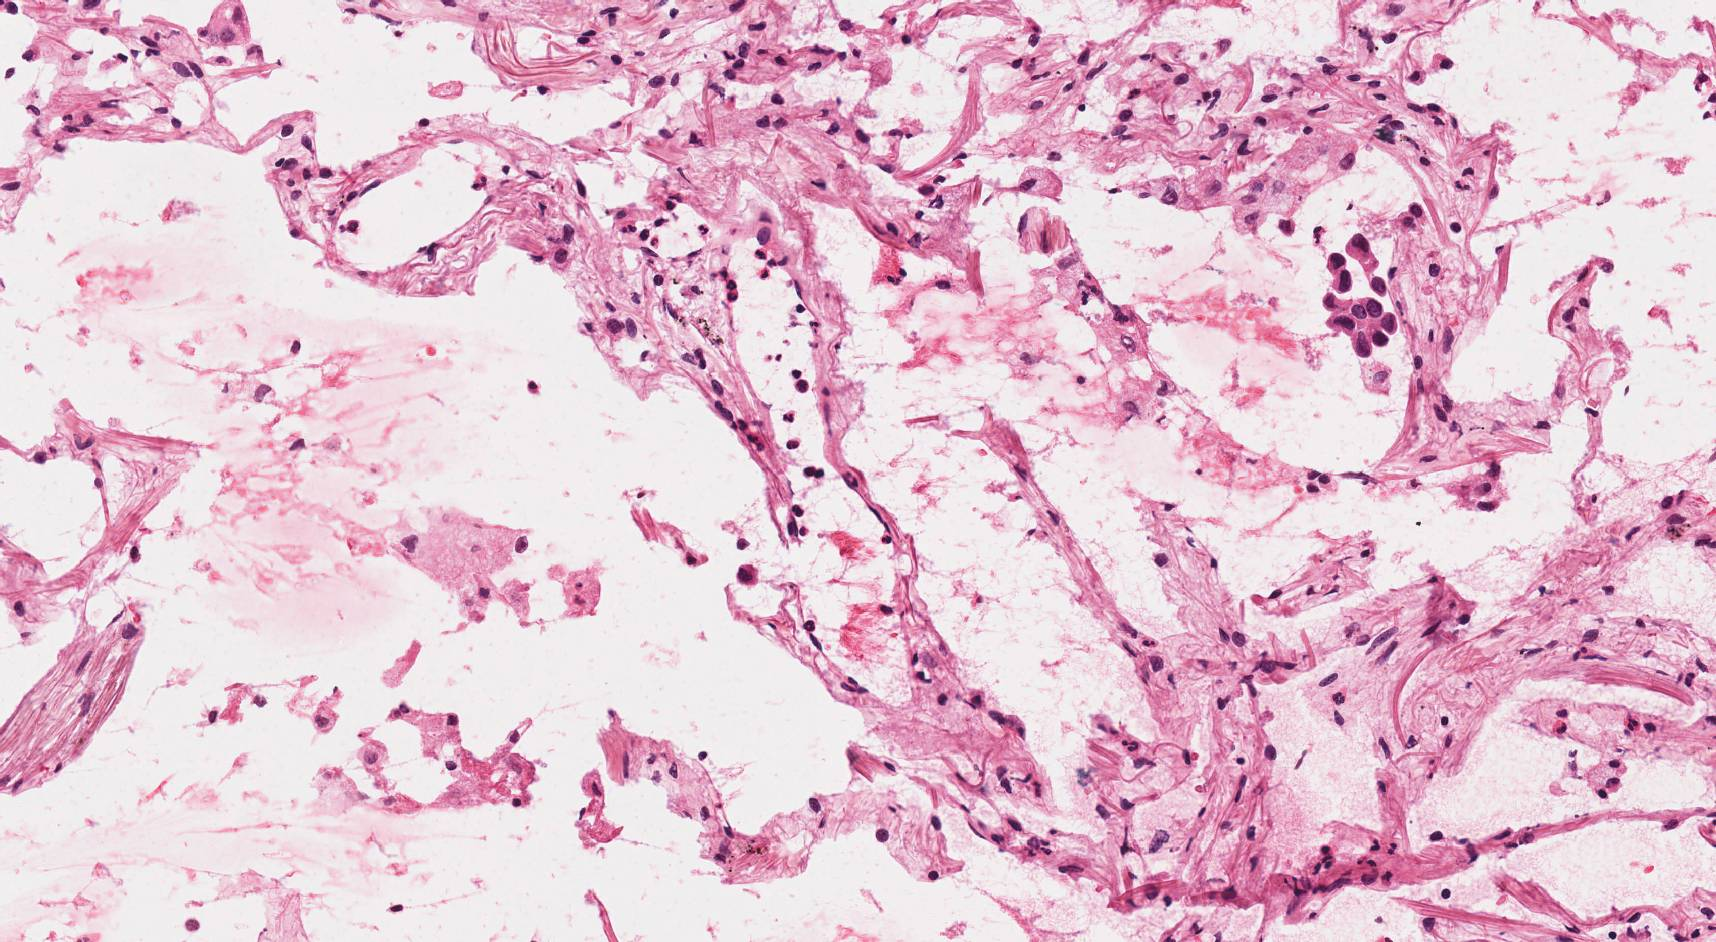stas: (1323, 235, 1398, 360)
